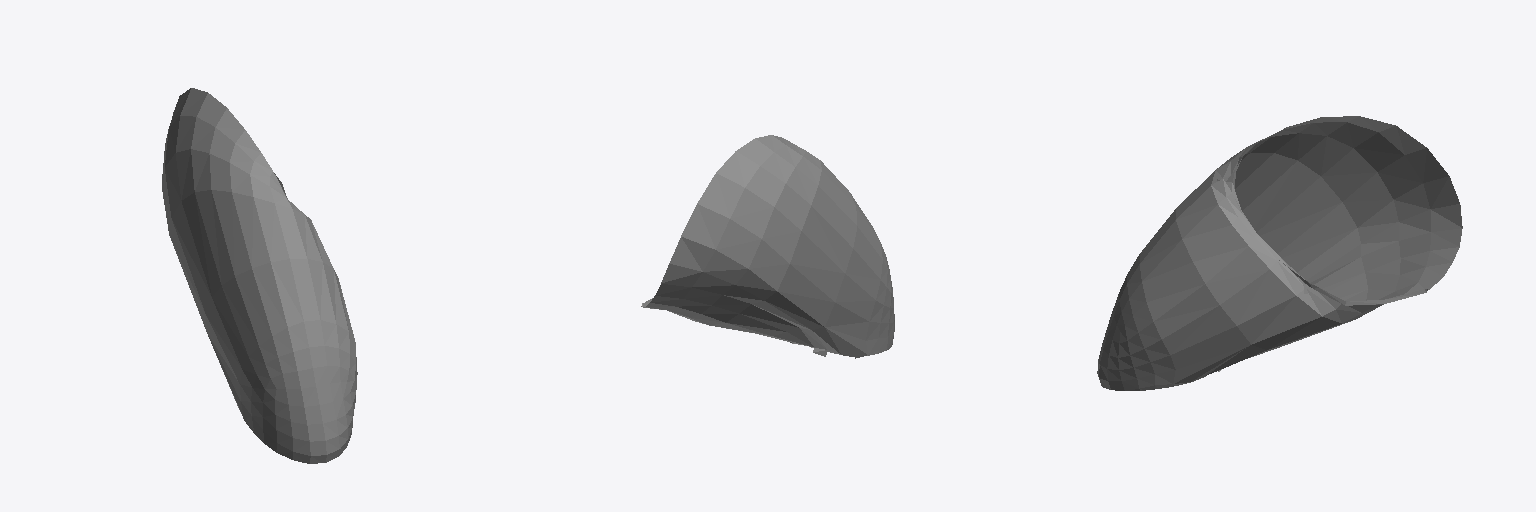
Rendered from cuisse_arriere_droite.obj.
The picture shows the model from 3 angles: view 1: azimuth 30°, elevation 25°; view 2: azimuth 150°, elevation 25°; view 3: azimuth 270°, elevation 25°; orthographic projection.
Parts seen in each view (by area): view 1: Cube.002_Cube.001; view 2: Cube.002_Cube.001; view 3: Cube.002_Cube.001.
Boxes of the visible parts, x1,y1,x2,y2 form: Cube.002_Cube.001: [162, 88, 357, 463]; Cube.002_Cube.001: [641, 135, 894, 358]; Cube.002_Cube.001: [1097, 116, 1462, 390].
Size of the model in its own units: 0.8163 by 1.74 by 2.12.